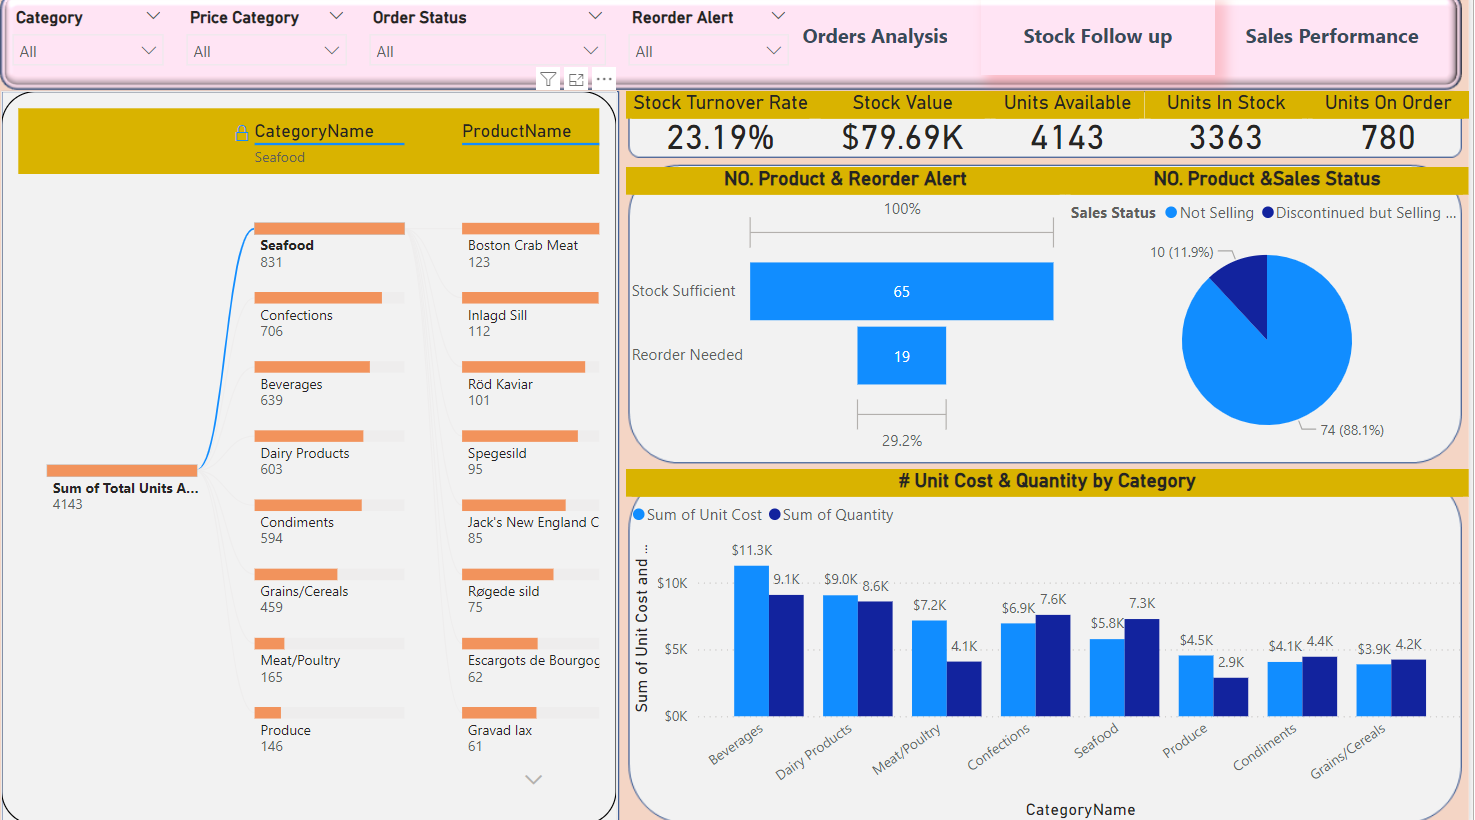

This screenshot's page, from the dashboard's own definition file:
{"tool":"powerbi","page":{"name":"Stock Follow Up","canvas":[1280,720],"ordinal":2},"visuals":[{"type":"decompositionTreeVisual","fields":{"ExplainBy":["Categories.CategoryName","Products.ProductName"],"Analyze":["Sum(Products.Total Units Available)"]},"box":[6.9,83.3,534.4,636.7],"z":0},{"type":"card","title":"Stock Value","fields":{"Values":["Sum(Products.Stock Value)"]},"box":[713.1,83.3,151.8,55.5],"z":1000},{"type":"card","title":"Units Available","fields":{"Values":["Sum(Products.Total Units Available)"]},"box":[864.9,83.3,134.5,55.5],"z":2000},{"type":"card","title":"Stock Turnover Rate","fields":{"Values":["Products.Stock Turnover Rate"]},"box":[549.1,83.3,164,55.5],"z":3000},{"type":"shape","box":[1060,0,203,69.4],"z":4000},{"type":"shape","box":[663.6,0,203,69.4],"z":5000},{"type":"shape","box":[857.1,0,203,69.4],"z":6000},{"type":"card","title":"Units In Stock","fields":{"Values":["Sum(Products.UnitsInStock)"]},"box":[999.3,83.3,140.5,55.5],"z":7000},{"type":"pieChart","title":"NO. Product &Sales Status","fields":{"Category":["Products.Sales Status"],"Y":["Count(Products.ProductID)"]},"box":[929.9,149.2,350.5,252.4],"z":8000},{"type":"funnel","title":"NO. Product & Reorder Alert","fields":{"Category":["Products.Reorder Alert"],"Y":["Count(Products.ProductID)"]},"box":[549.1,149.2,380.8,252.4],"z":9000},{"type":"clusteredColumnChart","title":"# Unit Cost & Quantity by Category","fields":{"Category":["Categories.CategoryName"],"Y":["Sum(OrdersDetails.Unit Cost)","Sum(OrdersDetails.Quantity)"]},"box":[549.1,411.2,731.3,308.8],"z":10000},{"type":"card","title":"Units On Order","fields":{"Values":["Sum(Products.UnitsOnOrder)"]},"box":[1139.9,83.3,140.5,55.5],"z":11000},{"type":"slicer","fields":{"Values":["Products.Category"]},"box":[6.9,6.1,150.9,63.3],"z":12000},{"type":"slicer","fields":{"Values":["Products.Price Category"]},"box":[157.9,6.1,158.7,63.3],"z":13000},{"type":"slicer","fields":{"Values":["Products.Order Status"]},"box":[316.6,6.1,224.7,63.3],"z":14000},{"type":"slicer","fields":{"Values":["Products.Reorder Alert"]},"box":[541.3,6.1,158.7,63.3],"z":15000}]}

Visuals, with their boxes on the page's 1280x720 design canvas (x1, y1, x2, y2). These are canvas units, not pixel positions in the 1475x820 screenshot, which may show the page scaled, cropped or inside an application window:
decompositionTreeVisual - Categories.CategoryName x Products.ProductName: BBox(7, 83, 541, 720)
"Stock Value" card: BBox(713, 83, 865, 139)
"Units Available" card: BBox(865, 83, 999, 139)
"Stock Turnover Rate" card: BBox(549, 83, 713, 139)
shape: BBox(1060, 0, 1263, 69)
shape: BBox(664, 0, 867, 69)
shape: BBox(857, 0, 1060, 69)
"Units In Stock" card: BBox(999, 83, 1140, 139)
"NO. Product &Sales Status" pieChart: BBox(930, 149, 1280, 402)
"NO. Product & Reorder Alert" funnel: BBox(549, 149, 930, 402)
"# Unit Cost & Quantity by Category" clusteredColumnChart: BBox(549, 411, 1280, 720)
"Units On Order" card: BBox(1140, 83, 1280, 139)
slicer - Products.Category: BBox(7, 6, 158, 69)
slicer - Products.Price Category: BBox(158, 6, 317, 69)
slicer - Products.Order Status: BBox(317, 6, 541, 69)
slicer - Products.Reorder Alert: BBox(541, 6, 700, 69)
